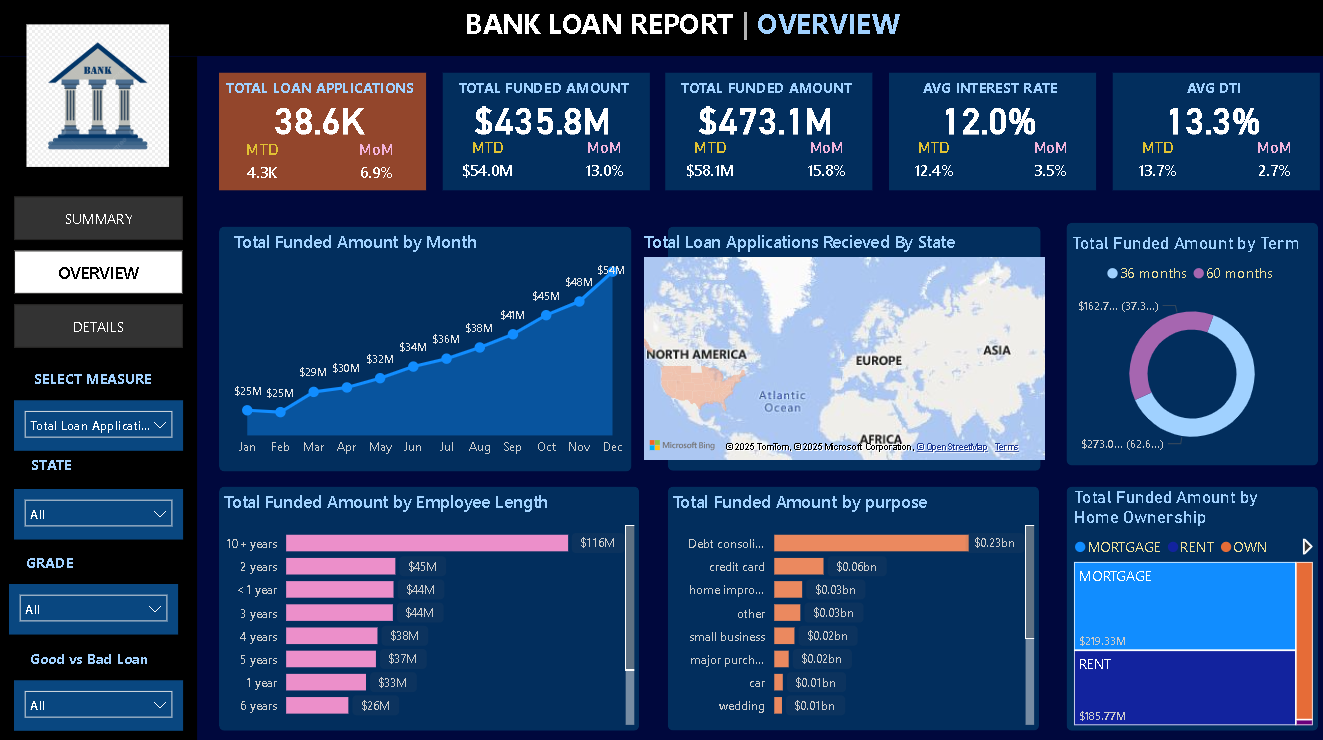

What the dashboard file says about the page in this screenshot:
{"tool":"powerbi","page":{"name":"OVERVIEW","canvas":[1280,720],"ordinal":1},"visuals":[{"type":"shape","box":[0,55.7,191.4,664.3],"z":0},{"type":"shape","box":[213.4,71.6,199.9,113.4],"z":0,"group":"g1"},{"type":"shape","box":[428.8,71.6,199.9,113.4],"z":0,"group":"g2"},{"type":"shape","box":[644.2,71.6,199.9,113.4],"z":0,"group":"g3"},{"type":"shape","box":[859.6,71.6,199.9,113.4],"z":0,"group":"g4"},{"type":"shape","box":[1075,71.6,199.9,113.4],"z":0,"group":"g5"},{"type":"shape","box":[0,0,1280.3,55],"z":1000},{"type":"card","fields":{"Values":["bank_loan_data.Total Loan Applications"]},"box":[233.7,94.6,152.6,41.9],"z":1000,"group":"g1"},{"type":"card","fields":{"Values":["bank_loan_data.Total Funded Amount"]},"box":[449.1,94.6,152.6,41.9],"z":1000,"group":"g2"},{"type":"card","fields":{"Values":["bank_loan_data.Total Amount Received"]},"box":[664.5,94.6,152.6,41.9],"z":1000,"group":"g3"},{"type":"card","fields":{"Values":["bank_loan_data.Avg Interest Rate"]},"box":[879.9,94.6,152.6,41.9],"z":1000,"group":"g4"},{"type":"card","fields":{"Values":["bank_loan_data.Avg DTI"]},"box":[1095.3,94.6,152.6,41.9],"z":1000,"group":"g5"},{"type":"textbox","box":[445.7,0,448.4,45.9],"z":2000},{"type":"textbox","box":[208,71.6,205.3,33.8],"z":2000,"group":"g1"},{"type":"textbox","box":[423.4,71.6,205.3,33.8],"z":2000,"group":"g2"},{"type":"textbox","box":[638.8,71.6,205.3,33.8],"z":2000,"group":"g3"},{"type":"textbox","box":[854.2,71.6,205.3,33.8],"z":2000,"group":"g4"},{"type":"textbox","box":[1069.6,71.6,205.3,33.8],"z":2000,"group":"g5"},{"type":"card","title":"MTD","fields":{"Values":["bank_loan_data.MTD Funded Amount"]},"box":[438.4,134.7,67.5,50],"z":3000,"group":"g2"},{"type":"card","title":"MTD","fields":{"Values":["bank_loan_data.MTD Total Amount Recieved"]},"box":[653.8,134.7,67.5,50],"z":3000,"group":"g3"},{"type":"card","title":"MTD","fields":{"Values":["bank_loan_data.MTD Avg Int Rate"]},"box":[869.2,134.7,67.5,50],"z":3000,"group":"g4"},{"type":"card","title":"MTD","fields":{"Values":["bank_loan_data.MTD Avg DTI"]},"box":[1084.6,134.7,67.5,50],"z":3000,"group":"g5"},{"type":"card","title":"MTD","fields":{"Values":["bank_loan_data.MTD Loan Applications"]},"box":[233.7,136.4,43.2,48.6],"z":3000,"group":"g1"},{"type":"textbox","box":[22.9,352.9,135.7,34.3],"z":3000},{"type":"card","title":"MoM","fields":{"Values":["bank_loan_data.MoM Total Funded Amount"]},"box":[558.6,134.7,51.3,50],"z":4000,"group":"g2"},{"type":"card","title":"MoM","fields":{"Values":["bank_loan_data.MoM Total Amount Recieved"]},"box":[774,134.7,51.3,50],"z":4000,"group":"g3"},{"type":"card","title":"MoM","fields":{"Values":["bank_loan_data.MoM Avg Int Rate"]},"box":[989.4,134.7,51.3,50],"z":4000,"group":"g4"},{"type":"card","title":"MoM","fields":{"Values":["bank_loan_data.MoM Avg DTI"]},"box":[1204.8,134.7,51.3,50],"z":4000,"group":"g5"},{"type":"card","title":"MoM","fields":{"Values":["bank_loan_data.MoM Loan Application"]},"box":[343.1,136.4,43.2,48.6],"z":4000,"group":"g1"},{"type":"textbox","box":[10.9,529.6,76,35],"z":4000},{"type":"textbox","box":[10,622.9,154.3,34.3],"z":5000},{"type":"group","id":"g1","title":"Group 1","box":[208,71.6,205.3,113.4],"z":6000},{"type":"group","id":"g2","title":"Group 1","box":[423.4,71.6,205.3,113.4],"z":7000},{"type":"shape","box":[212.3,219.6,398.1,236.5],"z":8000},{"type":"group","id":"g3","title":"Group 1","box":[638.8,71.6,205.3,113.4],"z":9000},{"type":"group","id":"g4","title":"Group 1","box":[854.2,71.6,205.3,113.4],"z":10000},{"type":"group","id":"g5","title":"Group 1","box":[1069.6,71.6,205.3,113.4],"z":11000},{"type":"slicer","fields":{"Values":["bank_loan_data.address_state"]},"box":[14.3,472.9,162.9,48.6],"z":12000},{"type":"textbox","box":[14.5,435.5,72.4,35],"z":13000},{"type":"slicer","fields":{"Values":["bank_loan_data.grade"]},"box":[10,564.3,162.9,48.6],"z":14000},{"type":"slicer","fields":{"Values":["bank_loan_data.Good vs Bad Loan"]},"box":[14.3,657.1,162.9,48.6],"z":15000},{"type":"areaChart","fields":{"Y":["bank_loan_data.Total Funded Amount"],"Category":["Date Table.Month"]},"box":[221.4,221.4,388.6,228.6],"z":16000},{"type":"slicer","fields":{"Values":["Select Measure.Select Measure"]},"box":[14.3,387.1,162.9,48.6],"z":17000},{"type":"shape","box":[645.7,220,360,235.7],"z":18000},{"type":"filledMap","fields":{"Category":["bank_loan_data.address_state"]},"box":[617.7,222,396.9,228],"z":19000},{"type":"shape","box":[1030,215.7,242.9,234.3],"z":20000},{"type":"donutChart","fields":{"Y":["bank_loan_data.Total Funded Amount"],"Category":["bank_loan_data.term"]},"box":[1030,225.7,242.9,224.3],"z":21000},{"type":"shape","box":[212.9,470,405.7,235.7],"z":22000},{"type":"barChart","fields":{"Y":["bank_loan_data.Total Funded Amount"],"Category":["bank_loan_data.emp_length"]},"box":[212.9,472.9,405.7,232.9],"z":23000},{"type":"shape","box":[645.7,470,358.6,235.7],"z":24000},{"type":"barChart","fields":{"Y":["bank_loan_data.Total Funded Amount"],"Category":["bank_loan_data.purpose"]},"box":[645.7,472.9,358.6,232.9],"z":25000},{"type":"shape","box":[1030,470,242.9,235.7],"z":26000},{"type":"treemap","fields":{"Values":["bank_loan_data.Total Funded Amount"],"Group":["bank_loan_data.home_ownership"]},"box":[1032.9,470,240,235.7],"z":27000},{"type":"pageNavigator","box":[14.9,190.4,163.4,147.2],"z":28000},{"type":"image","box":[21.4,15.7,147.1,155.7],"z":29000}]}

Visuals, with their boxes in screenshot pixels (x1, y1, x2, y2), scaled from the page's 1280x720 canvas onto the 1323x740 screenshot:
shape: (0,57,198,739)
shape: (221,74,427,190)
shape: (443,74,650,190)
shape: (666,74,872,190)
shape: (888,74,1095,190)
shape: (1111,74,1318,190)
shape: (0,0,1322,57)
card - bank_loan_data.Total Loan Applications: (242,97,399,140)
card - bank_loan_data.Total Funded Amount: (464,97,622,140)
card - bank_loan_data.Total Amount Received: (687,97,845,140)
card - bank_loan_data.Avg Interest Rate: (909,97,1067,140)
card - bank_loan_data.Avg DTI: (1132,97,1290,140)
textbox: (461,0,924,47)
textbox: (215,74,427,108)
textbox: (438,74,650,108)
textbox: (660,74,872,108)
textbox: (883,74,1095,108)
textbox: (1106,74,1318,108)
"MTD" card: (453,138,523,190)
"MTD" card: (676,138,746,190)
"MTD" card: (898,138,968,190)
"MTD" card: (1121,138,1191,190)
"MTD" card: (242,140,286,190)
textbox: (24,363,164,398)
"MoM" card: (577,138,630,190)
"MoM" card: (800,138,853,190)
"MoM" card: (1023,138,1076,190)
"MoM" card: (1245,138,1298,190)
"MoM" card: (355,140,399,190)
textbox: (11,544,90,580)
textbox: (10,640,170,675)
"Group 1" group: (215,74,427,190)
"Group 1" group: (438,74,650,190)
shape: (219,226,631,469)
"Group 1" group: (660,74,872,190)
"Group 1" group: (883,74,1095,190)
"Group 1" group: (1106,74,1318,190)
slicer - bank_loan_data.address_state: (15,486,183,536)
textbox: (15,448,90,484)
slicer - bank_loan_data.grade: (10,580,179,630)
slicer - bank_loan_data.Good vs Bad Loan: (15,675,183,725)
areaChart - bank_loan_data.Total Funded Amount x Date Table.Month: (229,228,630,462)
slicer - Select Measure.Select Measure: (15,398,183,448)
shape: (667,226,1039,468)
filledMap - bank_loan_data.address_state: (638,228,1049,462)
shape: (1065,222,1316,462)
donutChart - bank_loan_data.Total Funded Amount x bank_loan_data.term: (1065,232,1316,462)
shape: (220,483,639,725)
barChart - bank_loan_data.Total Funded Amount x bank_loan_data.emp_length: (220,486,639,725)
shape: (667,483,1038,725)
barChart - bank_loan_data.Total Funded Amount x bank_loan_data.purpose: (667,486,1038,725)
shape: (1065,483,1316,725)
treemap - bank_loan_data.Total Funded Amount x bank_loan_data.home_ownership: (1068,483,1316,725)
pageNavigator: (15,196,184,347)
image: (22,16,174,176)
